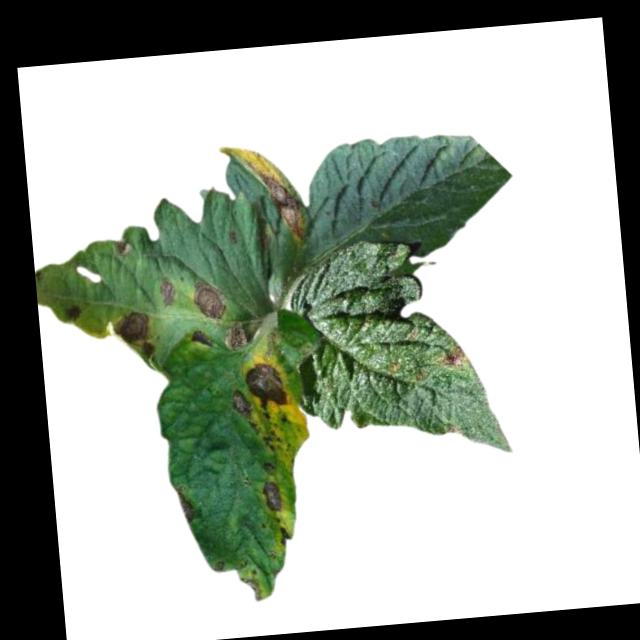Early_blight: (215, 139, 309, 248), (225, 356, 291, 417), (183, 274, 230, 324), (108, 305, 152, 351), (171, 480, 197, 527), (217, 319, 249, 354), (259, 477, 288, 515), (436, 340, 467, 372), (237, 572, 262, 603), (157, 279, 178, 310), (59, 299, 81, 326), (112, 237, 132, 257), (276, 522, 291, 546)
